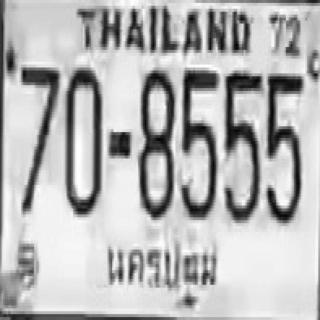N00: (63, 65, 101, 214)
N05: (222, 67, 262, 220), (265, 70, 302, 223), (180, 68, 217, 217)
N07: (20, 65, 58, 211)
N08: (137, 68, 174, 217)
P28: (104, 232, 219, 314)
